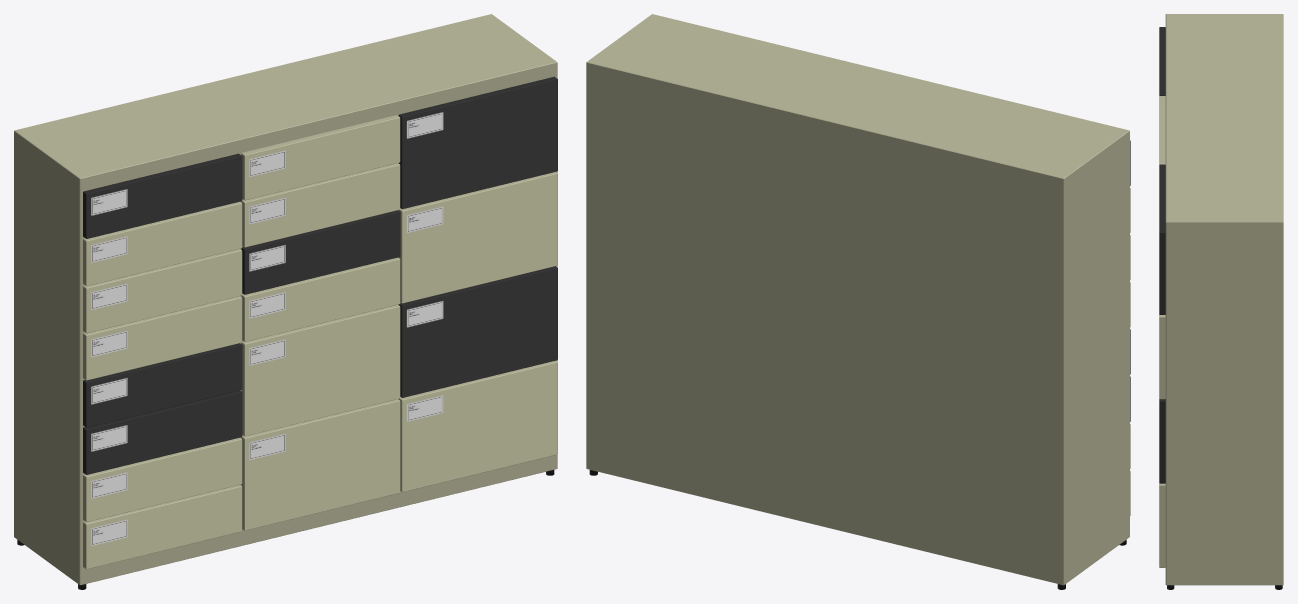
Rendered from office_box.obj.
The picture shows the model from 3 angles, left to right: view 1: azimuth 30°, elevation 25°; view 2: azimuth 150°, elevation 25°; view 3: azimuth 270°, elevation 25°; orthographic projection. The views are drawn at different scales.
Parts seen in each view (by area): view 1: oficina_armario_Cube.161; view 2: oficina_armario_Cube.161; view 3: oficina_armario_Cube.161.
Boxes of the visible parts, x1,y1,x2,y2 form: oficina_armario_Cube.161: (14,14,557,589); oficina_armario_Cube.161: (586,14,1130,589); oficina_armario_Cube.161: (1159,14,1283,589).
Bounding box in the file's own units: 158 × 131 × 40.
7 materials, 4 textured.
